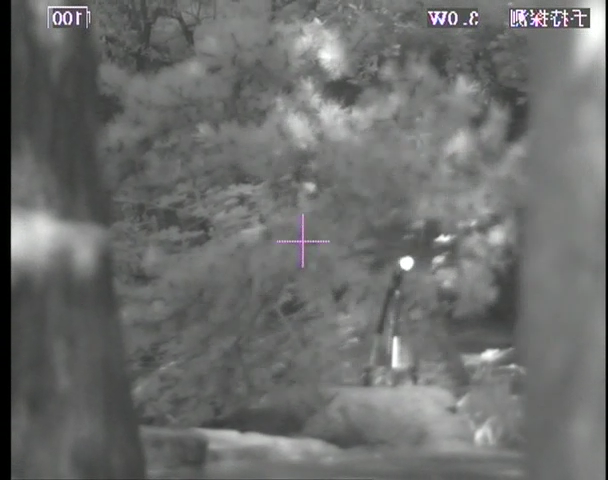my: (398, 254, 415, 273)
